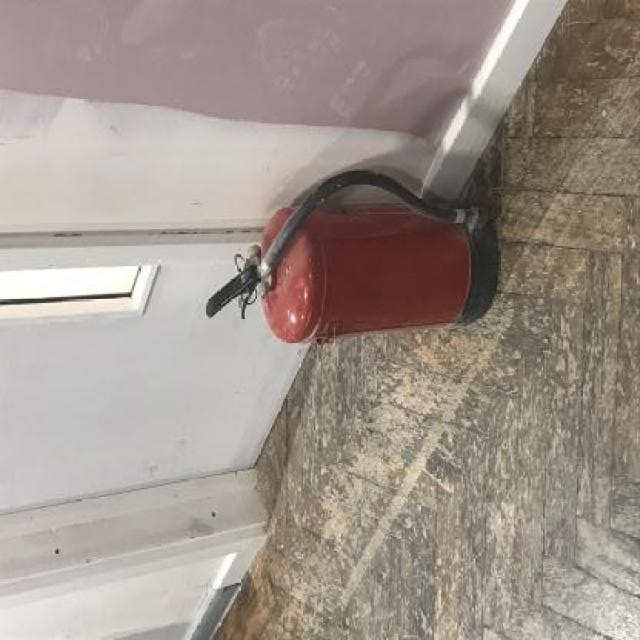fire extinguisher: (205, 167, 500, 342)
